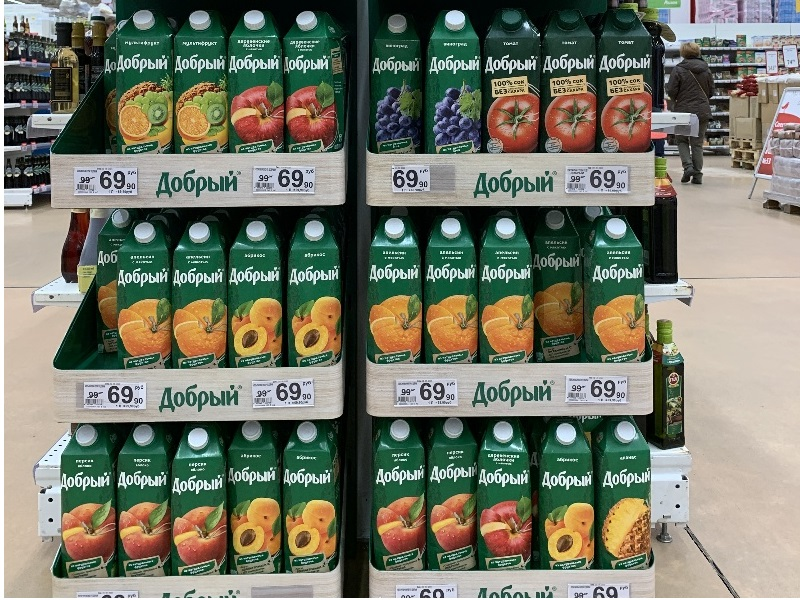juice: (224, 218, 295, 379), (168, 219, 236, 382), (55, 421, 124, 580), (164, 427, 236, 579), (111, 11, 183, 162), (418, 8, 490, 157), (527, 209, 594, 369), (221, 423, 290, 578), (535, 413, 600, 577), (535, 6, 607, 154), (111, 425, 179, 580), (111, 221, 179, 374), (586, 214, 653, 368), (226, 6, 292, 162), (475, 211, 540, 369), (474, 416, 539, 574), (593, 414, 658, 571), (283, 218, 348, 374), (479, 7, 546, 158), (365, 214, 429, 368), (371, 418, 434, 574), (424, 418, 487, 574), (279, 420, 343, 571), (282, 9, 348, 155), (592, 3, 654, 157), (169, 9, 232, 159), (421, 217, 483, 368), (369, 13, 432, 160)
